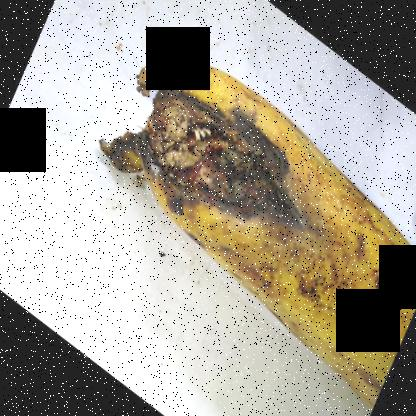ripe: (110, 49, 416, 406)
rotten: (85, 66, 316, 248)
